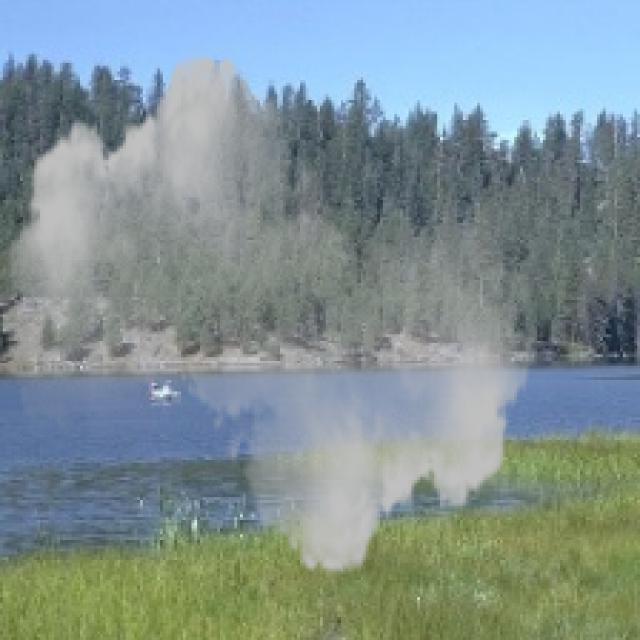Smoke: (0, 37, 537, 592)
